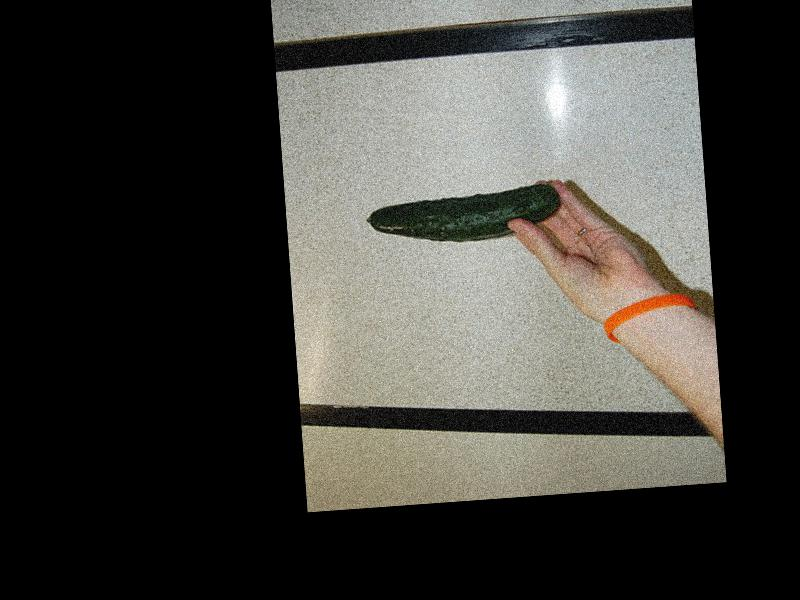Cucumber: (363, 182, 563, 246)
